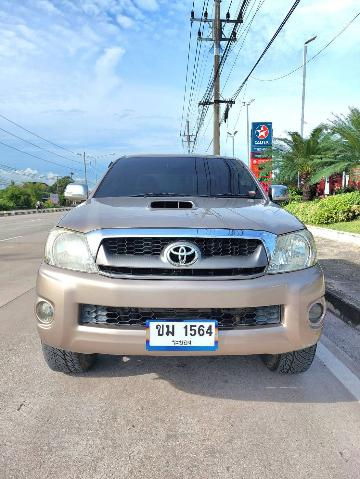pickup-truck: (27, 148, 326, 384)
